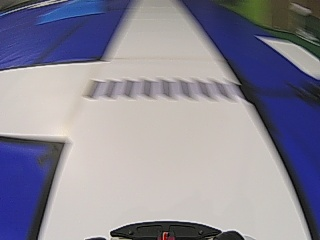CrossWalk: (84, 78, 228, 101)
